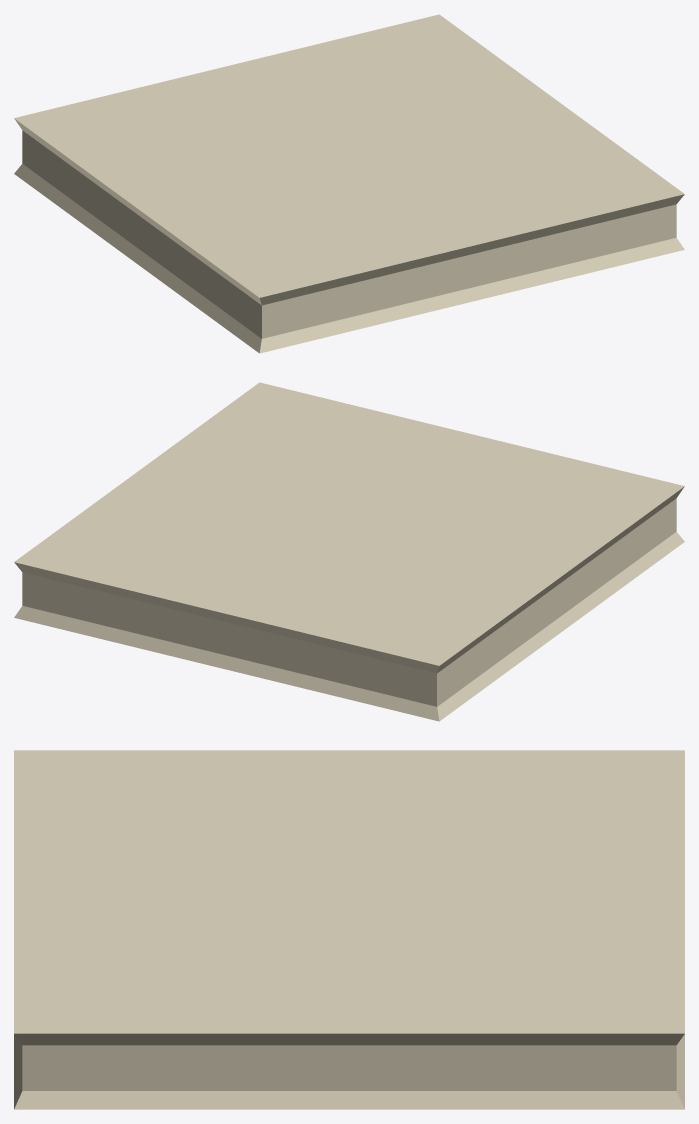
File: roman_roof_support_2_square.fbx
3 renders of one model, top to bottom at view 1: azimuth 30°, elevation 25°; view 2: azimuth 150°, elevation 25°; view 3: azimuth 270°, elevation 25°, orthographic. The views are drawn at different scales.
Visible parts, largest first — view 1: Cube.060; view 2: Cube.060; view 3: Cube.060.
Part boxes in pixels (bbox=[...]): Cube.060: bbox=[14, 14, 684, 353]; Cube.060: bbox=[14, 382, 684, 721]; Cube.060: bbox=[14, 750, 684, 1109].
Bounding box in the file's own units: 8 × 1 × 8.
